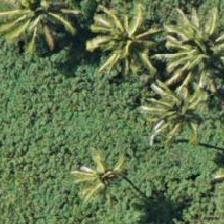coconut_tree: (55, 124, 145, 214), (134, 62, 223, 152), (89, 0, 179, 78), (164, 3, 223, 93), (4, 0, 94, 51)
